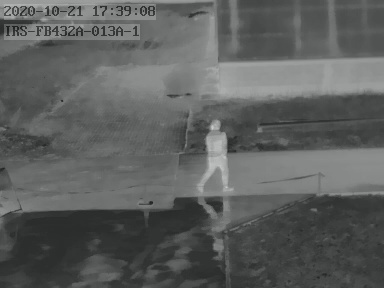person: (194, 119, 234, 192)
